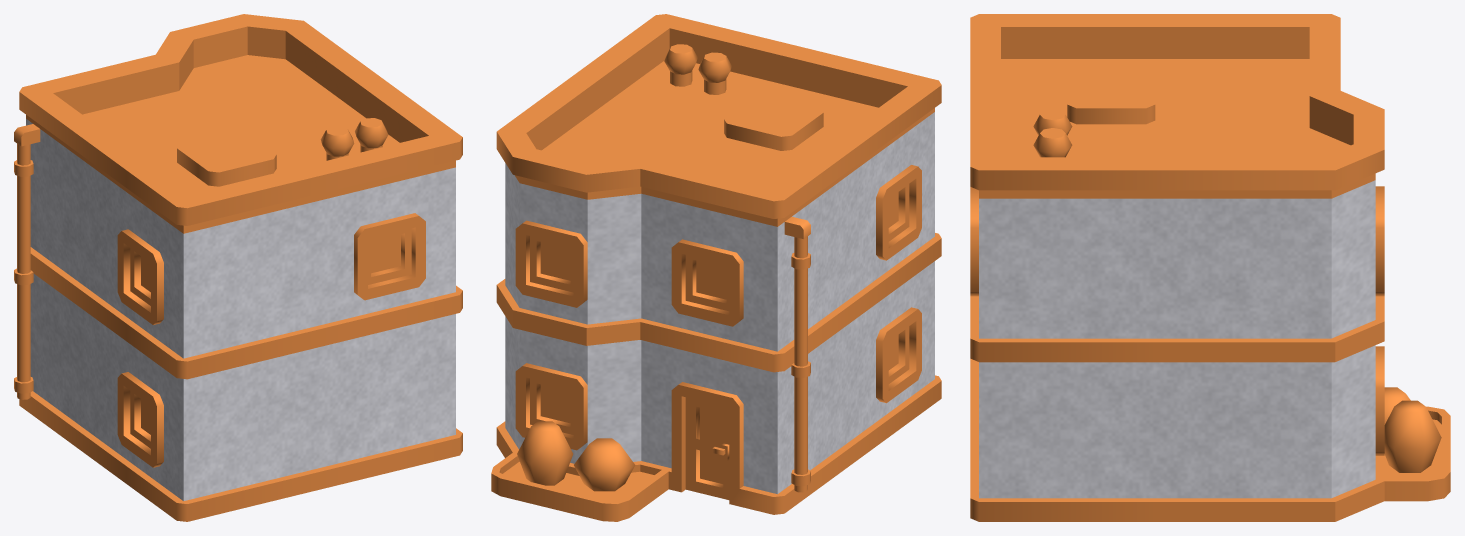
The model's file is building-c.obj.
3 views of the same model, side by side, from view 1: azimuth 30°, elevation 25°; view 2: azimuth 150°, elevation 25°; view 3: azimuth 270°, elevation 25° (orthographic). The views are drawn at different scales.
Size of the model in its own units: 0.8836 by 0.893 by 1.09.
